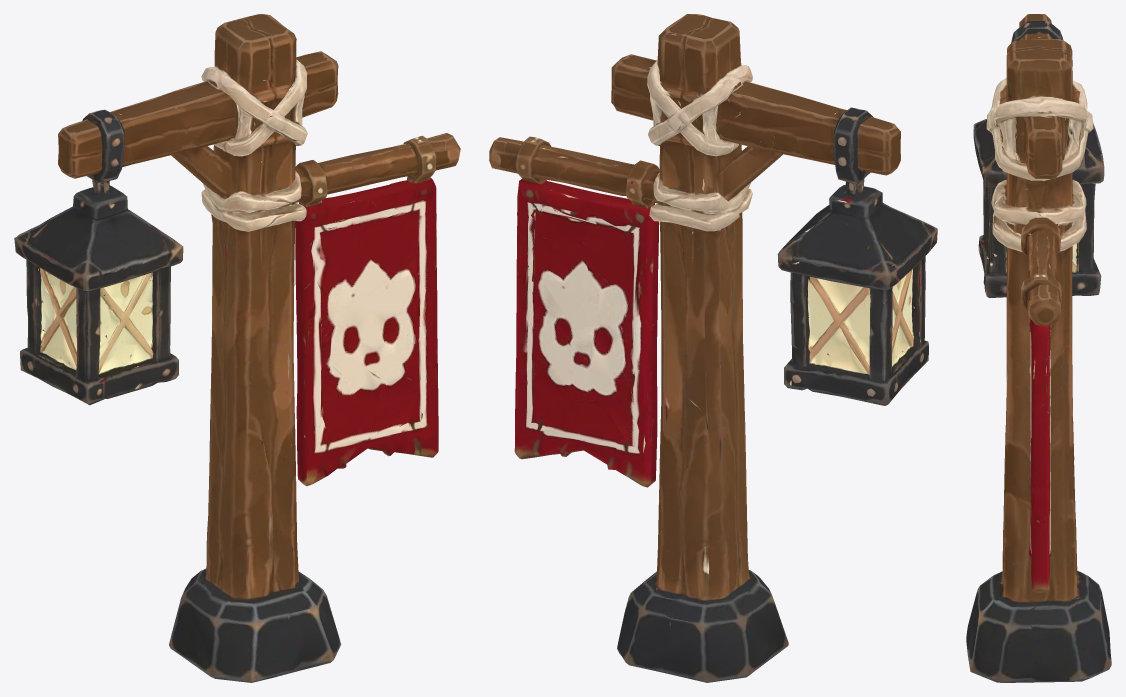
The model's file is lantern-post.glb.
3 renders of one model, left to right at view 1: azimuth 30°, elevation 25°; view 2: azimuth 150°, elevation 25°; view 3: azimuth 270°, elevation 25°, orthographic. The views are drawn at different scales.
Size of the model in its own units: 1.35 by 1.9 by 0.4158.
Materials: 1 (1 with a texture image).
